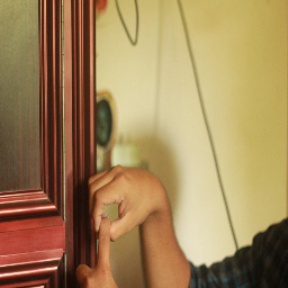Q: (66, 162, 161, 288)
